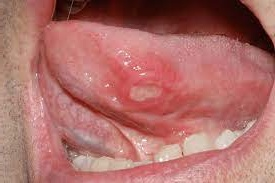Ulcer: (122, 78, 171, 104)
